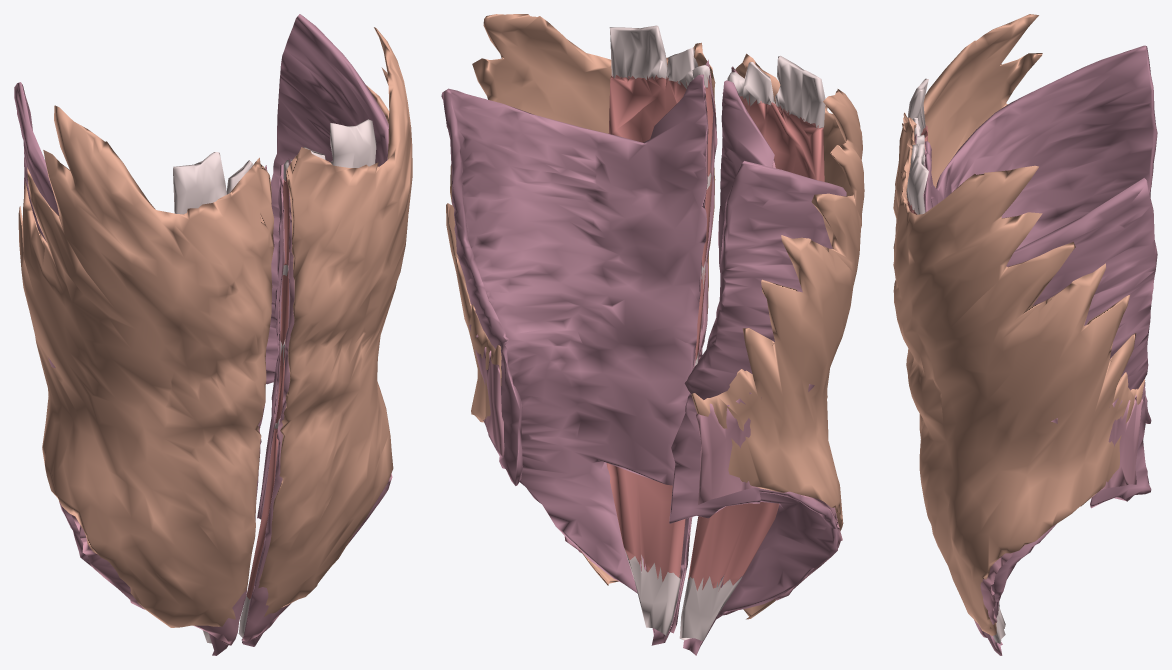
Rendered from meshopt-10-nm.glb.
3 renders of one model, left to right at view 1: azimuth 30°, elevation 25°; view 2: azimuth 150°, elevation 25°; view 3: azimuth 270°, elevation 25°, orthographic. The views are drawn at different scales.
Visible parts, largest first — view 1: external_r, external_l, transversus_l, rectus_l, internal_l, rectus_r, transversus_r, internal_r; view 2: transversus_l, transversus_r, external_r, rectus_l, rectus_r, external_l, internal_r, internal_l; view 3: external_l, transversus_r, transversus_l, external_r, internal_l, rectus_l, rectus_r.
Boxes of the visible parts, left/top/right/bottom form: external_r: left=18, top=105, right=274, bottom=627; external_l: left=258, top=27, right=412, bottom=616; transversus_l: left=242, top=14, right=388, bottom=646; rectus_l: left=238, top=119, right=376, bottom=637; internal_l: left=241, top=158, right=392, bottom=641; rectus_r: left=173, top=152, right=252, bottom=643; transversus_r: left=14, top=82, right=228, bottom=655; internal_r: left=48, top=165, right=274, bottom=645; transversus_l: left=441, top=74, right=707, bottom=645; transversus_r: left=669, top=80, right=846, bottom=655; external_r: left=691, top=53, right=864, bottom=619; rectus_l: left=606, top=25, right=713, bottom=635; rectus_r: left=679, top=55, right=825, bottom=640; external_l: left=446, top=14, right=716, bottom=585; internal_r: left=695, top=66, right=842, bottom=619; internal_l: left=469, top=59, right=717, bottom=633; external_l: left=893, top=137, right=1145, bottom=635; transversus_r: left=925, top=45, right=1157, bottom=423; transversus_l: left=924, top=153, right=1157, bottom=655; external_r: left=893, top=14, right=1042, bottom=438; internal_l: left=909, top=165, right=1143, bottom=637; rectus_l: left=906, top=144, right=1005, bottom=643; rectus_r: left=908, top=78, right=1005, bottom=628.
Bounding box in the file's own units: 0.2815 × 0.4383 × 0.1886.
